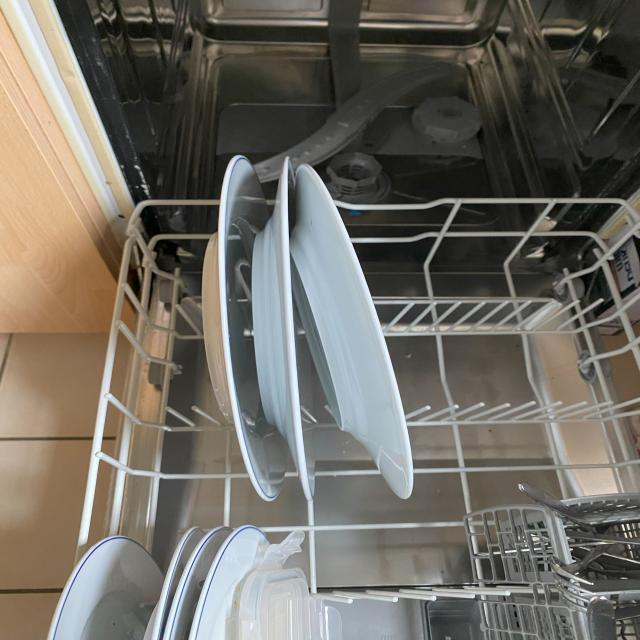empty_slot: (411, 204, 640, 475)
